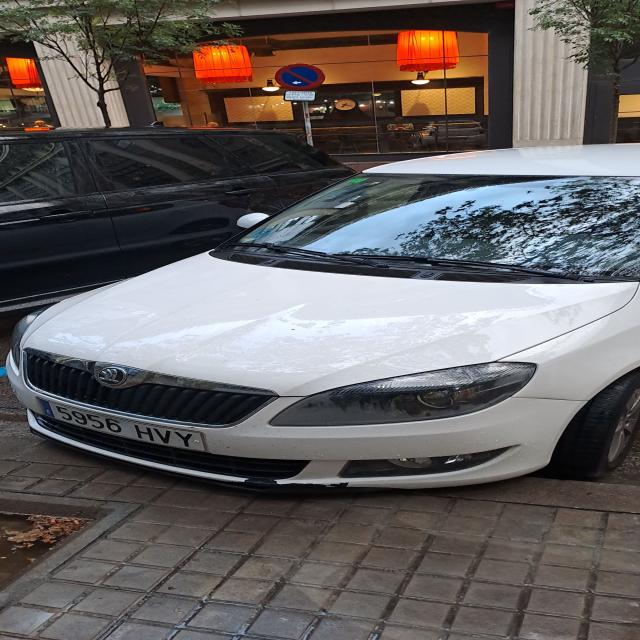license_plate-34Td: (50, 403, 205, 451)
